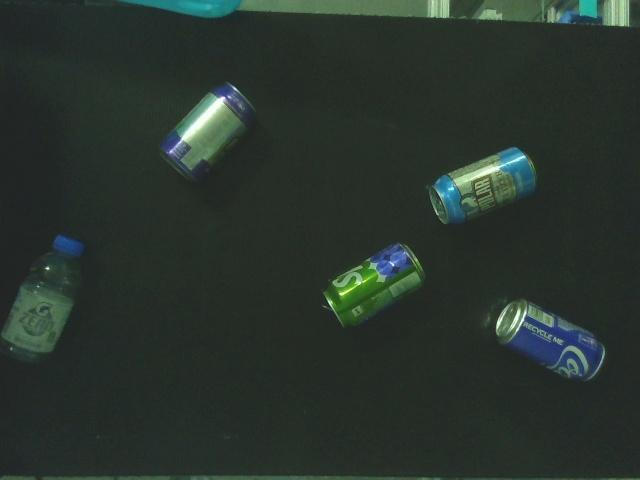metal: (157, 78, 260, 188), (492, 294, 608, 390), (318, 240, 427, 330), (426, 146, 540, 230)
plastic: (0, 232, 89, 369)
